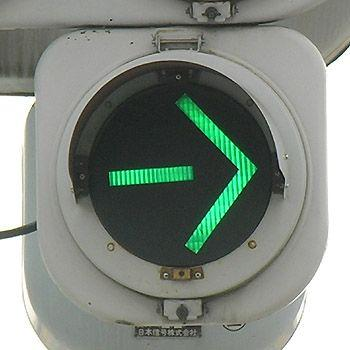Traffic light green: (29, 25, 331, 321)
